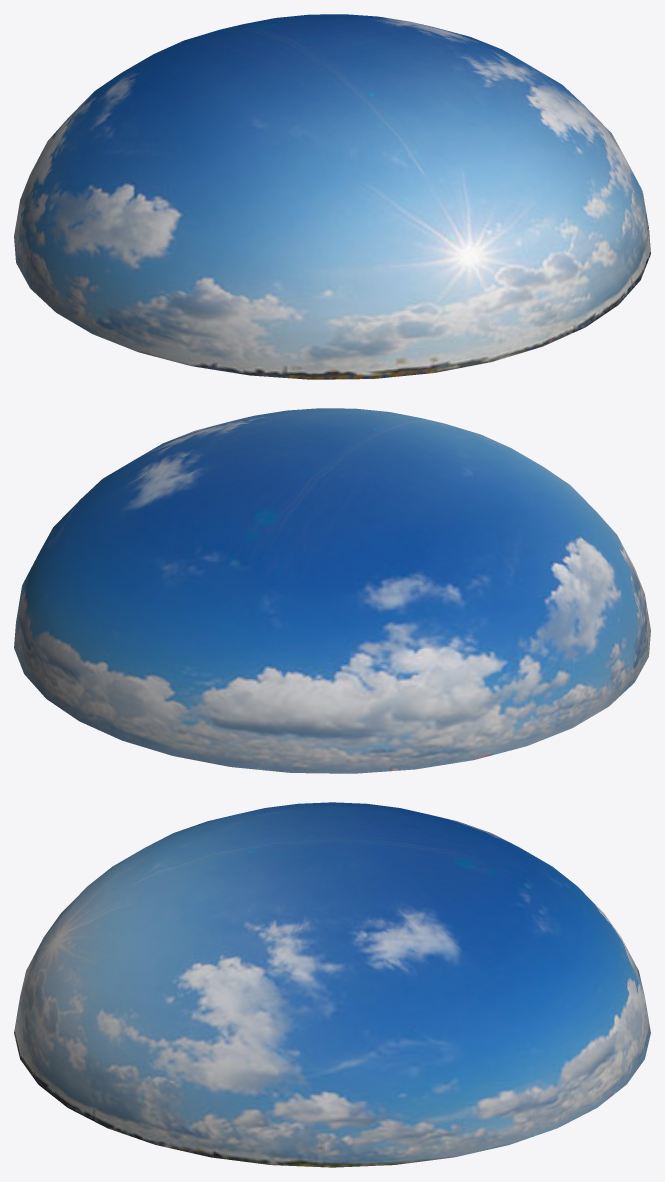
3 views of the same model, one above another, from view 1: azimuth 30°, elevation 25°; view 2: azimuth 150°, elevation 25°; view 3: azimuth 270°, elevation 25° (orthographic).
Visible parts, largest first — view 1: Sphere001; view 2: Sphere001; view 3: Sphere001.
Boxes of the visible parts, bbox=[...] form: Sphere001: bbox=[14, 14, 650, 379]; Sphere001: bbox=[14, 408, 650, 773]; Sphere001: bbox=[14, 802, 650, 1167].
Bounding box in the file's own units: 10308 × 3349 × 10308.
Materials: 9 (4 with a texture image).
